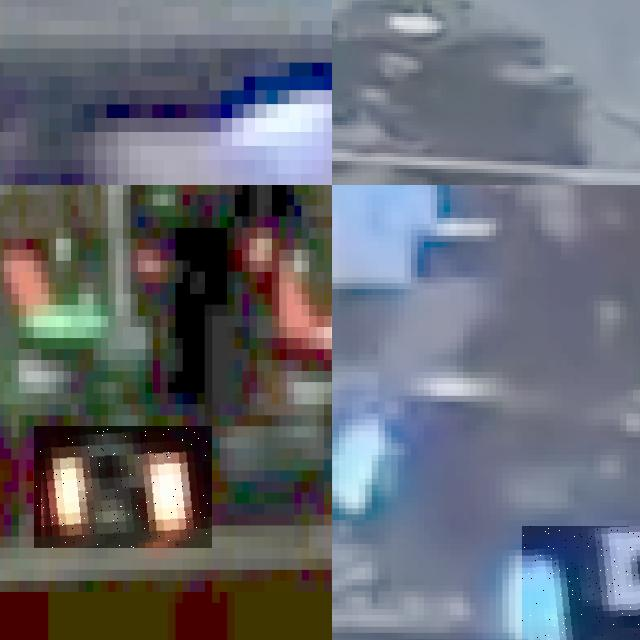B5: (521, 526, 640, 640)
Rs: (34, 426, 212, 548)
